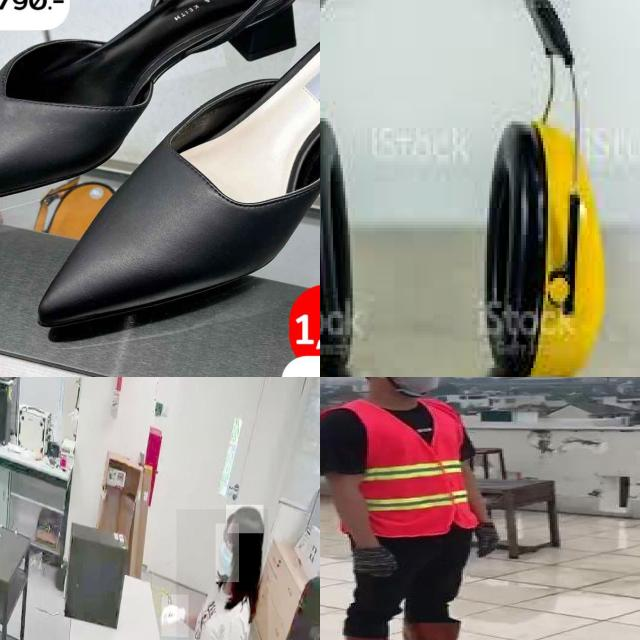Ear-protection: (479, 111, 604, 377), (320, 111, 350, 377)
Sandals: (14, 0, 320, 337), (0, 0, 320, 228)
boots: (400, 615, 514, 640)
face_mask: (215, 524, 239, 582)
hand_glove: (162, 595, 188, 637)
head_nohelmet: (226, 505, 264, 534)
person: (320, 377, 518, 640), (176, 509, 268, 640)
vest: (320, 398, 477, 539)
